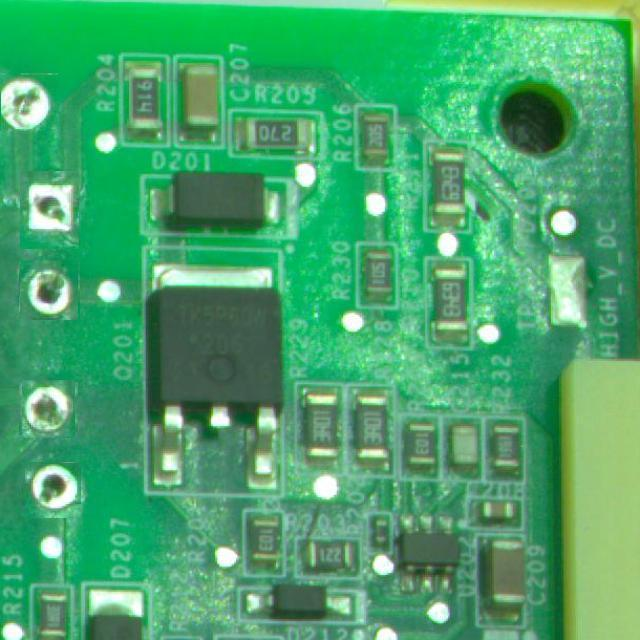lack_of_part: (14, 175, 84, 245), (20, 260, 79, 320), (0, 74, 58, 132), (25, 462, 81, 518), (20, 381, 76, 436)
